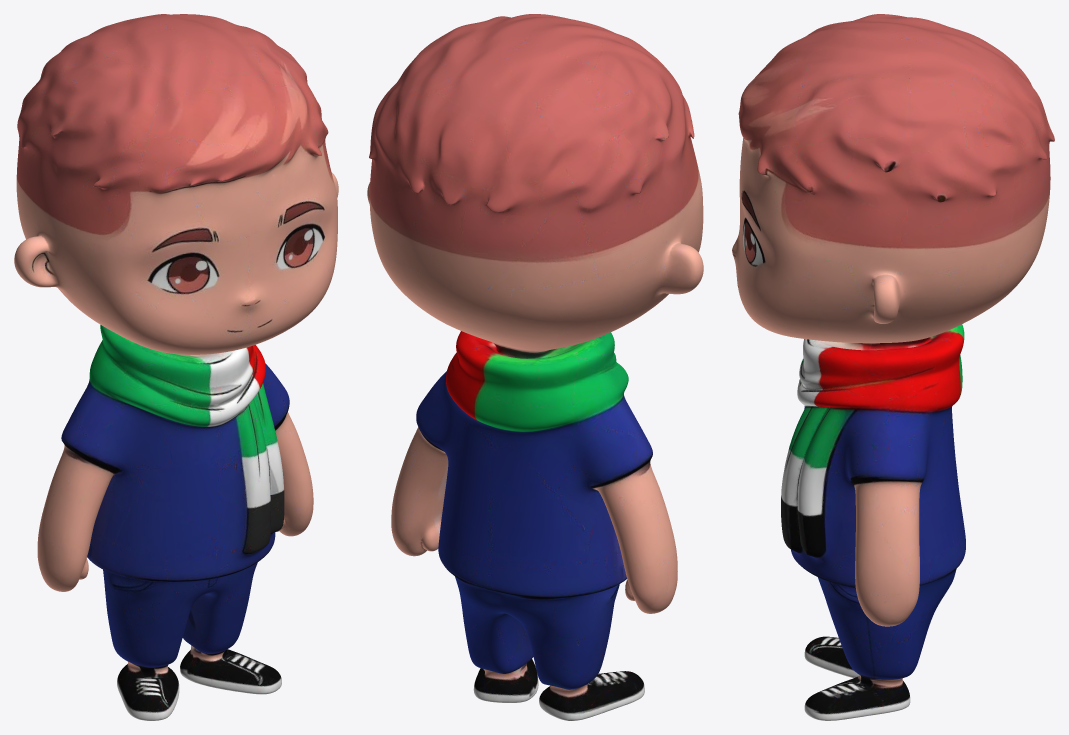
File: hadi-uae-scarf.glb
3 views of the same model, side by side, from view 1: azimuth 30°, elevation 25°; view 2: azimuth 150°, elevation 25°; view 3: azimuth 270°, elevation 25° (orthographic). The views are drawn at different scales.
Size of the model in its own units: 0.985 by 1.9 by 0.8544.
1 material, 1 textured.
